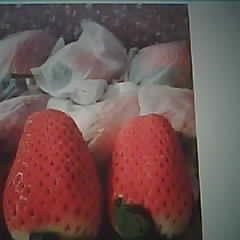straw-ripe: (3, 111, 103, 240), (108, 115, 193, 236)
